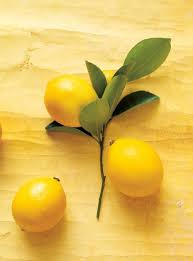Lemon: (103, 129, 167, 204), (10, 171, 70, 242), (40, 72, 93, 128)
